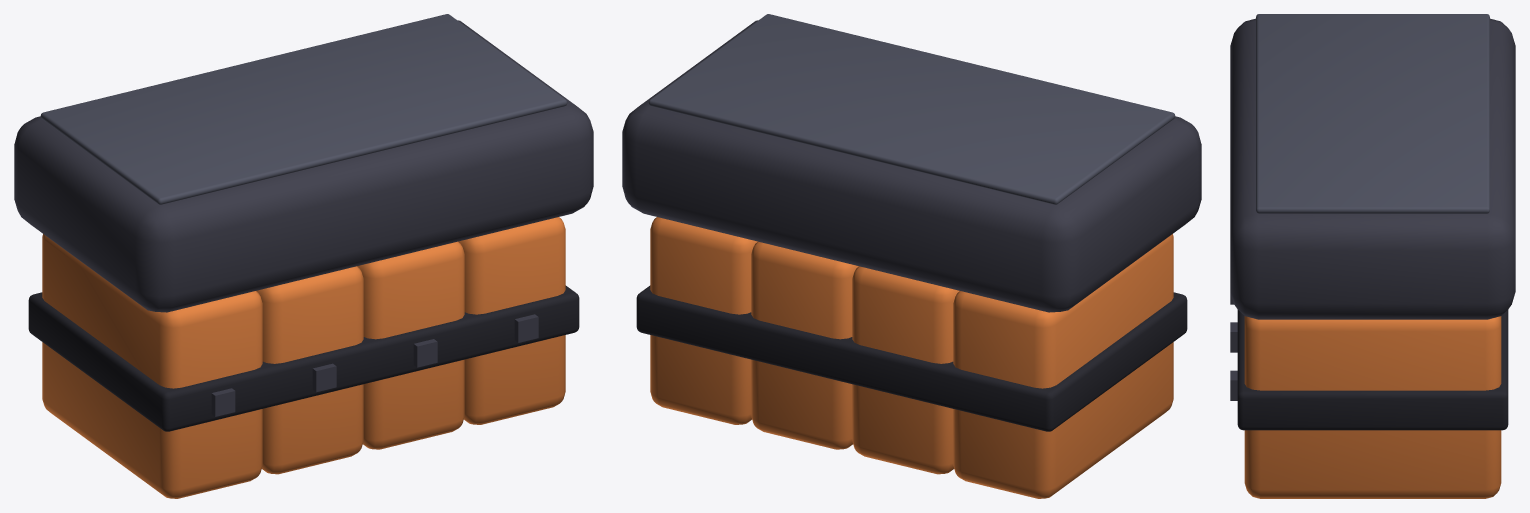
The model's file is Anvil.fbx.
The picture shows the model from 3 angles, left to right: view 1: azimuth 30°, elevation 25°; view 2: azimuth 150°, elevation 25°; view 3: azimuth 270°, elevation 25°; orthographic projection. The views are drawn at different scales.
Visible parts, largest first — view 1: Block, StrikeFace, Timber0, Band, Timber1, Timber2, Timber3; view 2: Block, StrikeFace, Timber0, Band, Timber1, Timber2, Timber3; view 3: StrikeFace, Block, Timber3, Band.
Part boxes in pixels (x1,y1,x2,y2): Block: (14,20,593,312); StrikeFace: (40,14,567,204); Timber0: (42,234,262,498); Band: (28,285,579,431); Timber1: (256,266,363,474); Timber2: (357,241,464,449); Timber3: (458,217,565,424); Block: (622,20,1201,312); StrikeFace: (648,14,1175,204); Timber0: (953,234,1173,498); Band: (636,285,1187,431); Timber1: (852,266,959,474); Timber2: (751,241,858,449); Timber3: (650,217,757,424); StrikeFace: (1256,14,1489,213); Block: (1230,18,1515,319); Timber3: (1244,316,1501,498); Band: (1237,310,1508,430).
Bounding box in the file's own units: 3.6 × 2.3 × 2.
